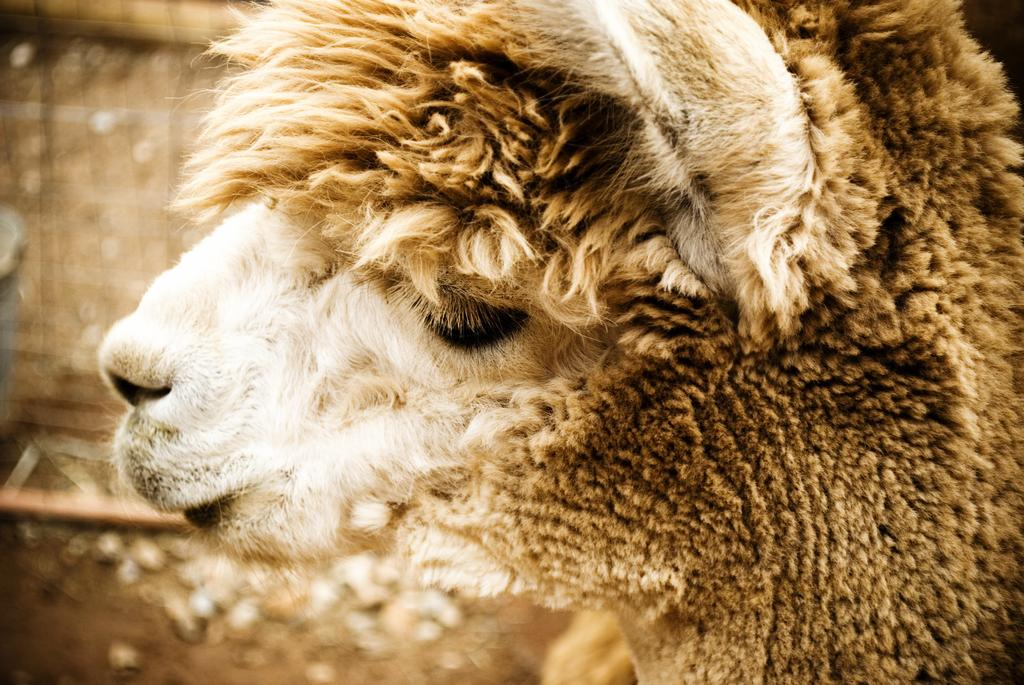Sheep: (91, 2, 1024, 684)
